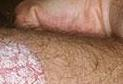plaque psoriasis: (0, 37, 94, 84)
